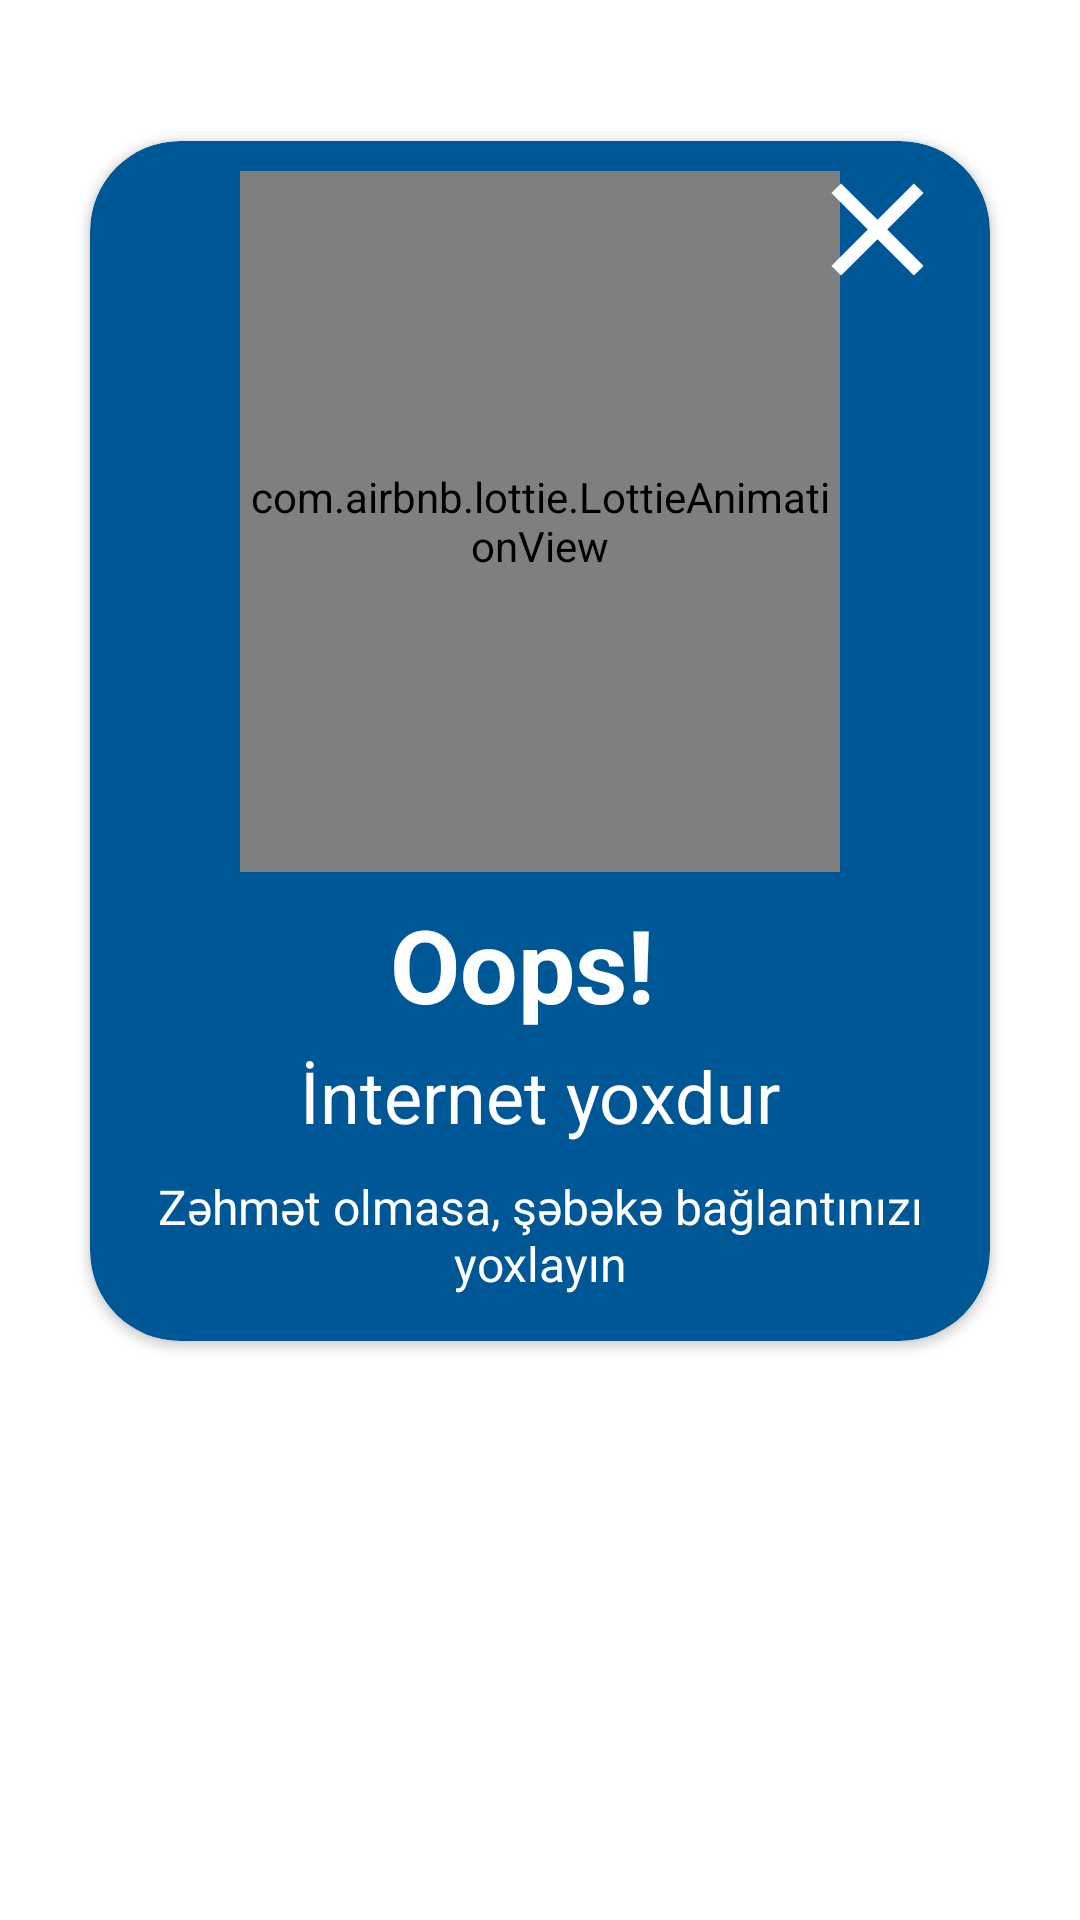

Icon click points for this 1080 x 1920 phone screenshot, format (x=x, y=y):
cross: (x=877, y=229)
